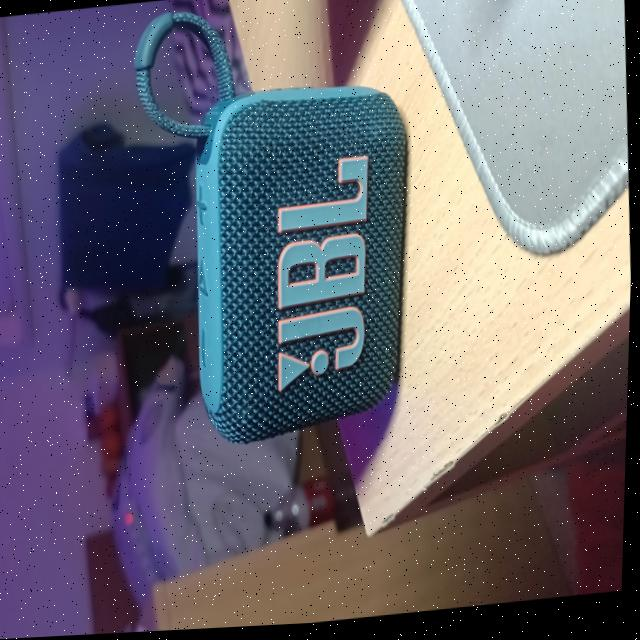column JBL: (121, 0, 431, 469)
